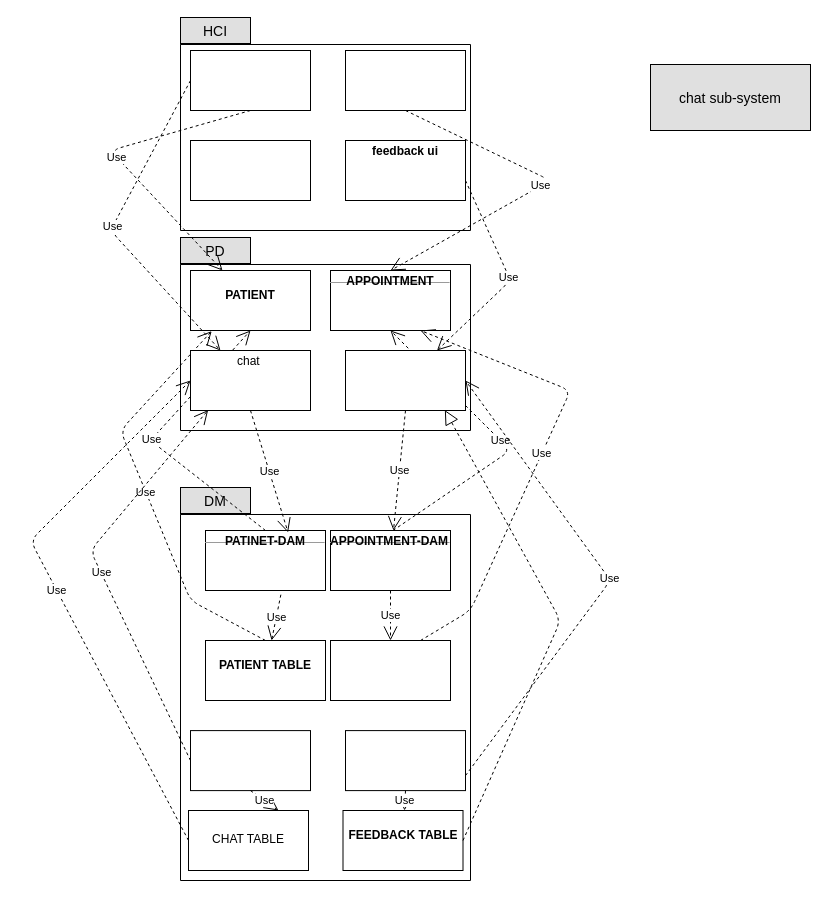
This 828x898 diagram has some shape labels left out. The shapes that lost their labels are listed below. From the top down, each one's box as (x1, y1, x2, y2) in pixels, then its label:
(190, 50, 310, 110): PATIENT UI
(344, 50, 466, 110): APPOINTMENT UI
(190, 140, 310, 200): chat ui
(344, 350, 466, 410): feedback
(330, 640, 450, 700): APPOINTMENT TABLE
(190, 730, 310, 791): CHAT-DAM
(344, 730, 466, 791): FEEDBACK-DAM
